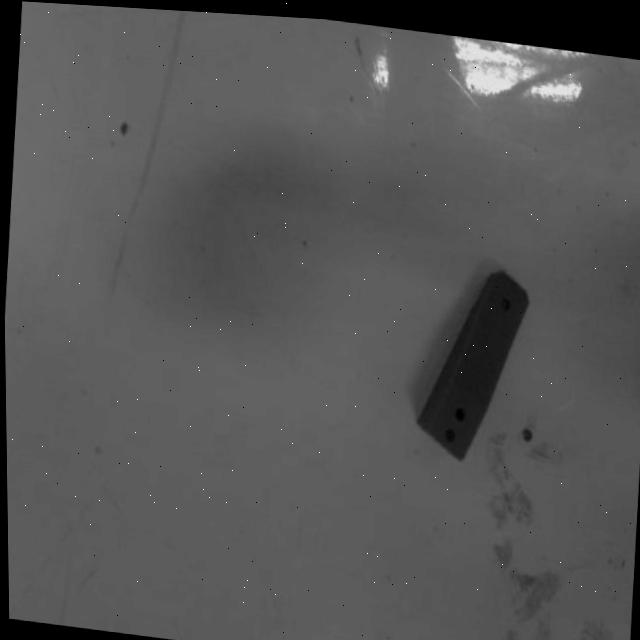grey: (403, 256, 536, 468)
head: (498, 292, 513, 312)
